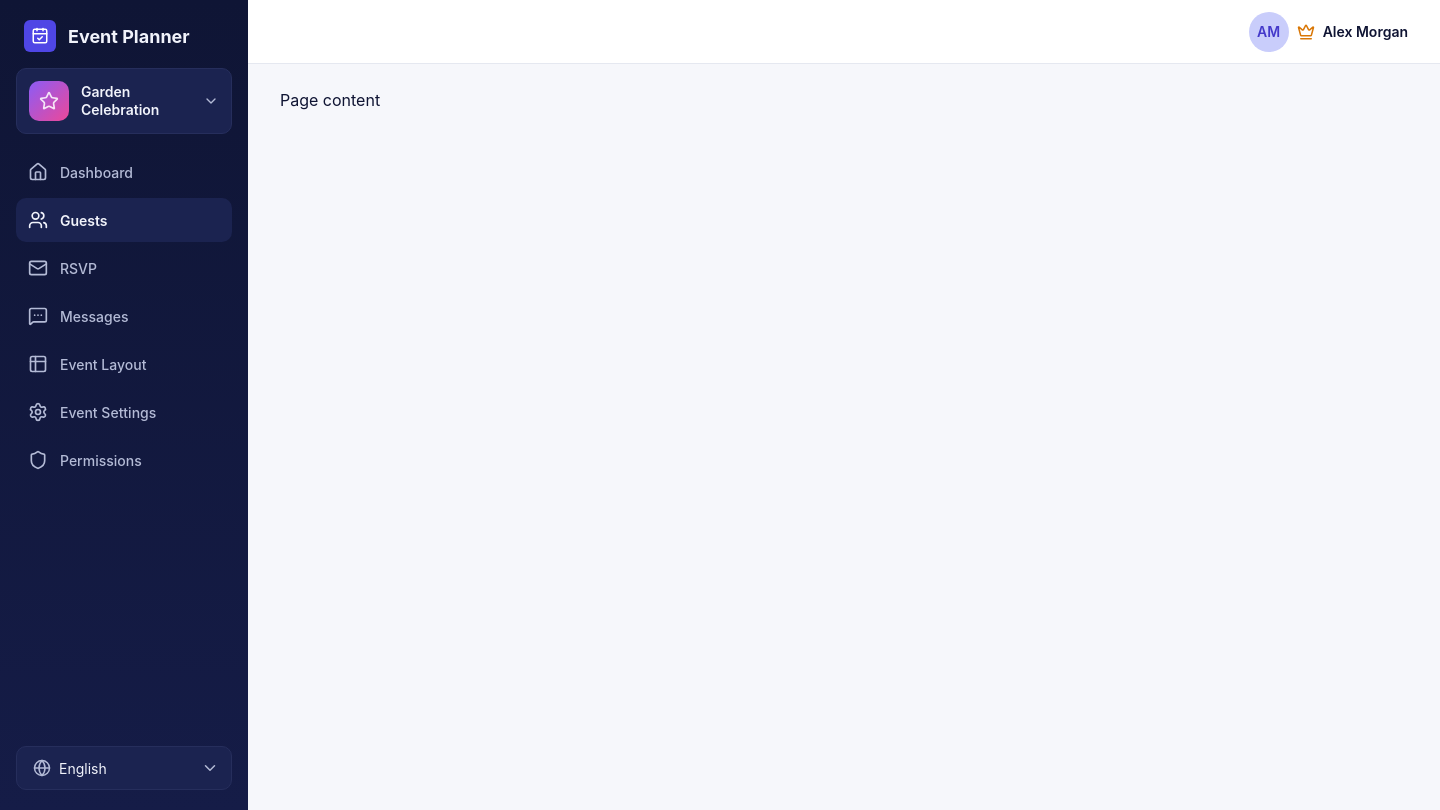
Scenario: shell chrome › switches the interface to Hebrew from the language selector
The image size is (1440, 810).
Click the dropdown named "Language" at (124, 768), box [16,746,232,790]
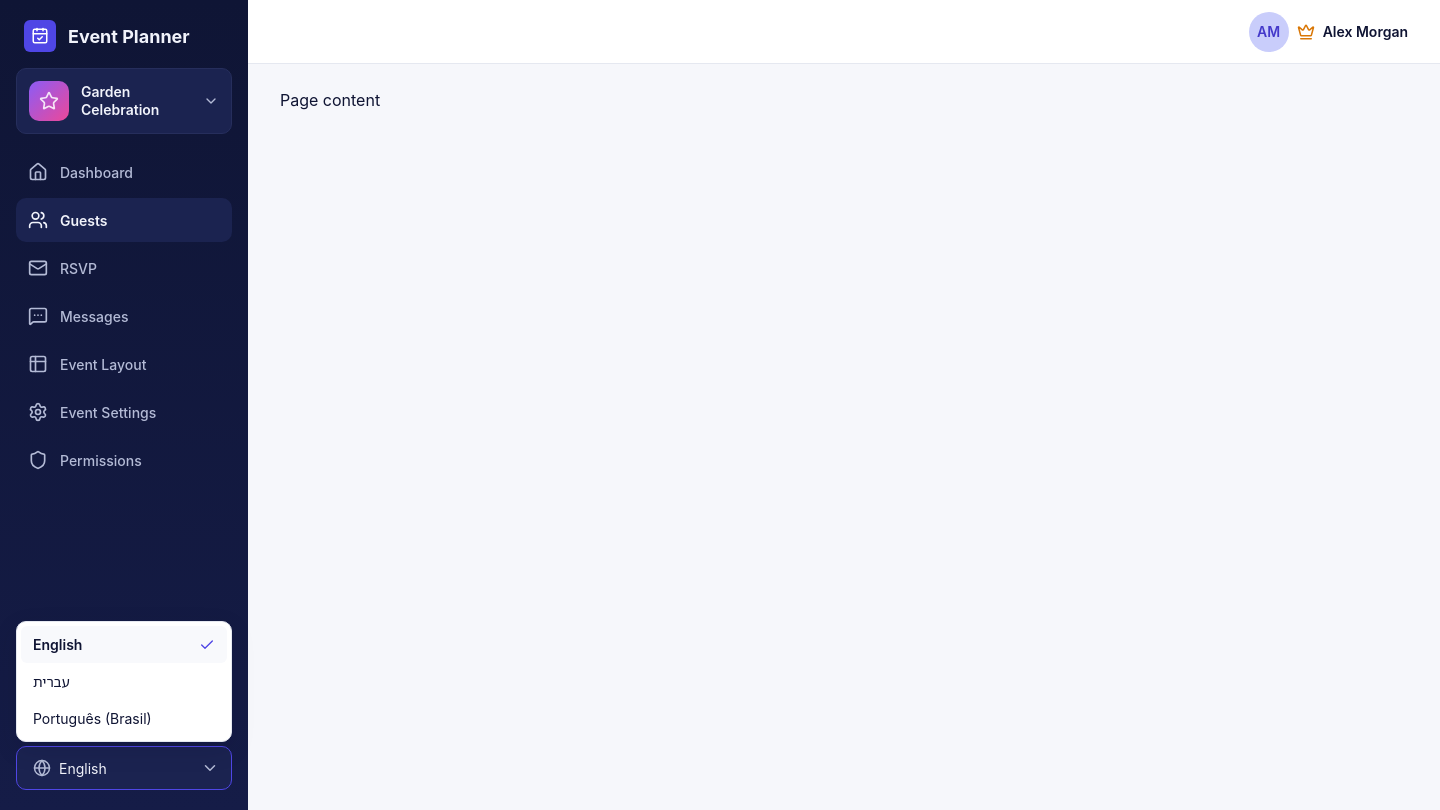
Click the option "עברית" at (51, 682), box [33,673,70,690]
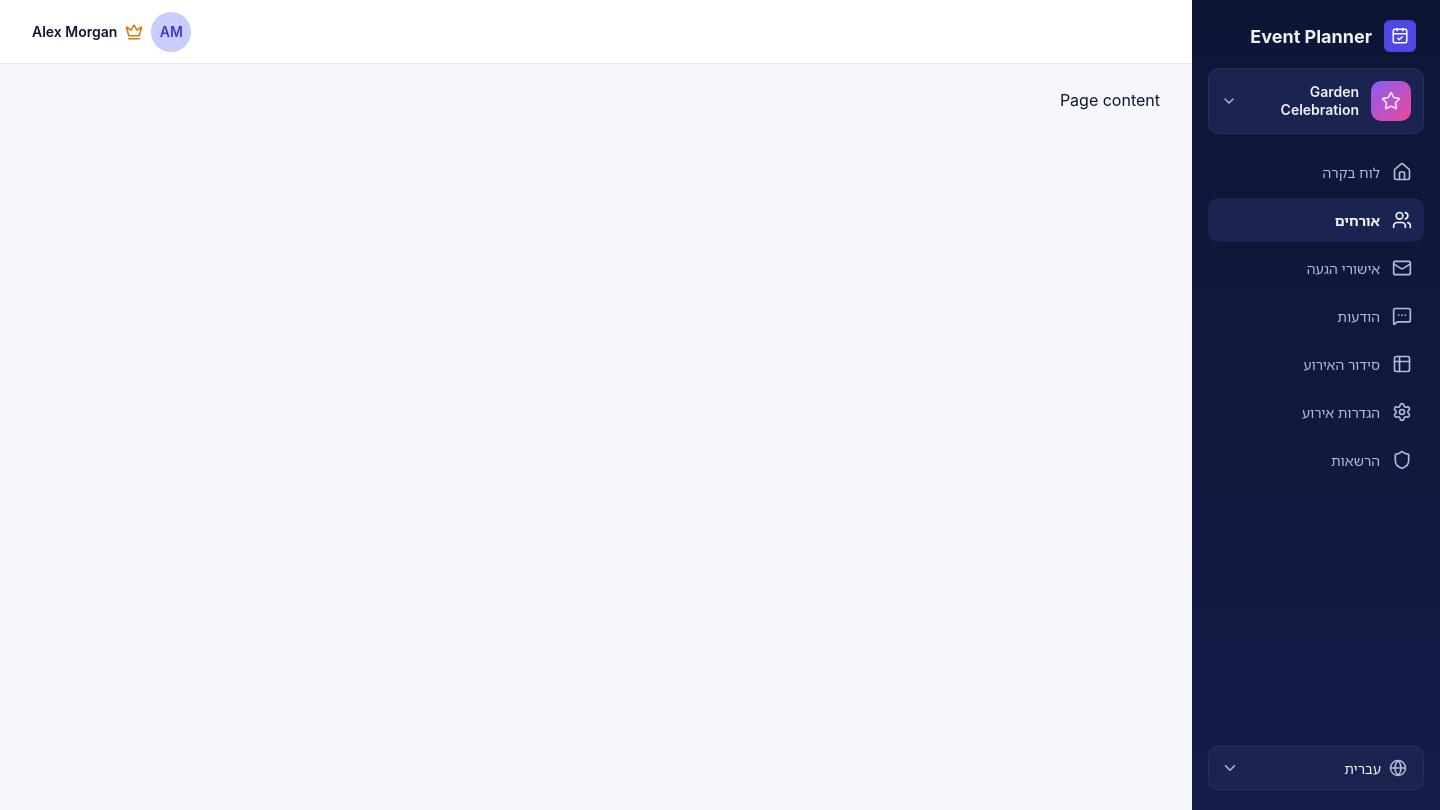
Check: the navigation bar named "ניווט באירוע" is shown, box [1208,162,1424,470]
